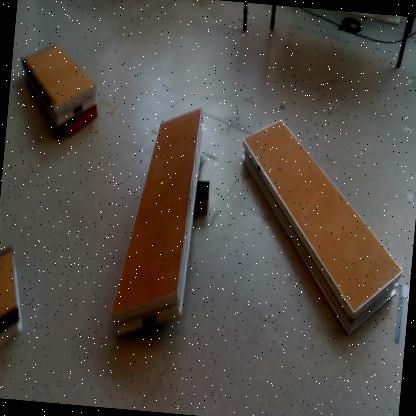Stairs: (242, 120, 403, 335), (111, 109, 205, 336), (24, 43, 98, 130), (1, 250, 23, 349)
